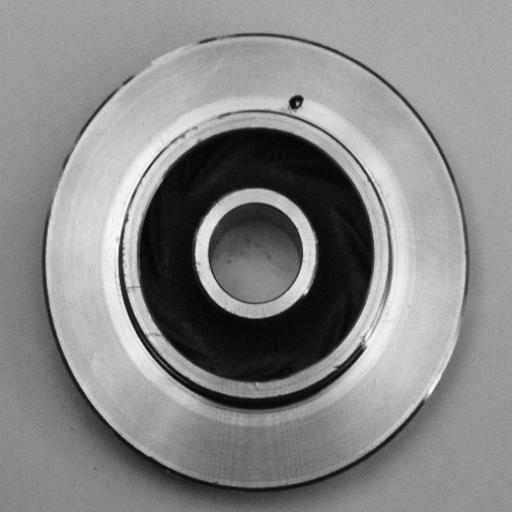pit: (279, 88, 309, 114)
scratch: (360, 266, 406, 367), (157, 109, 227, 150)
unpolished_casting: (42, 31, 473, 492)
